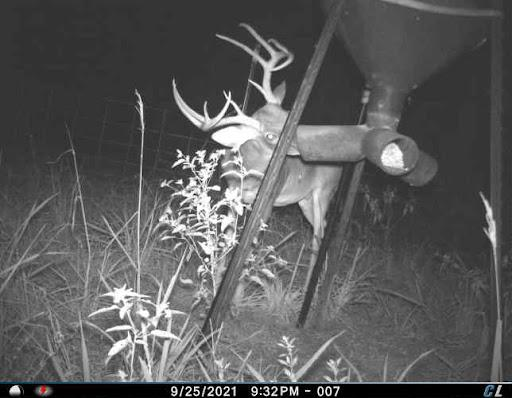Deer: (165, 16, 358, 315)
